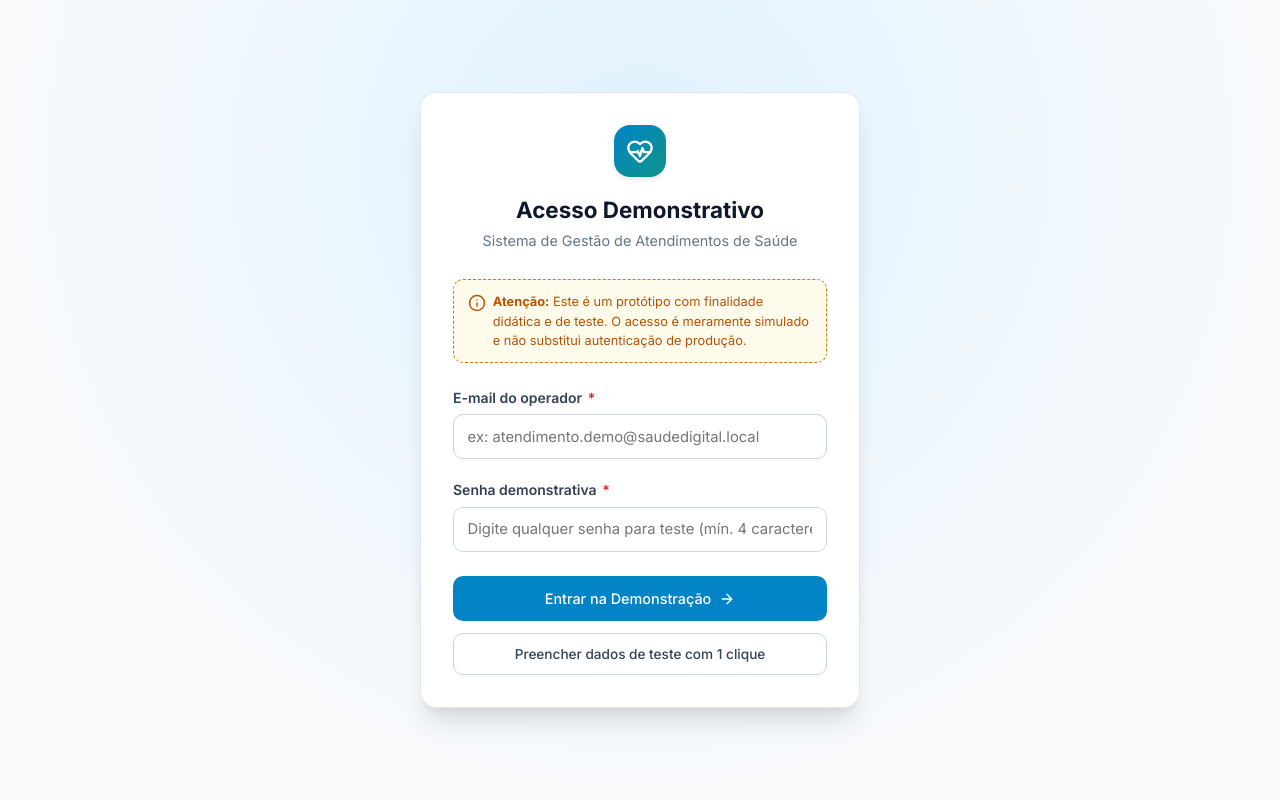
Test case: Gestão de Atendimentos de Saúde - Testes Funcionais › Área de Gestão e CRUD de Atendimentos › permite editar um atendimento existente
Click the button "Preencher dados de teste com 1 clique" at (640, 654), box [453, 633, 827, 675]
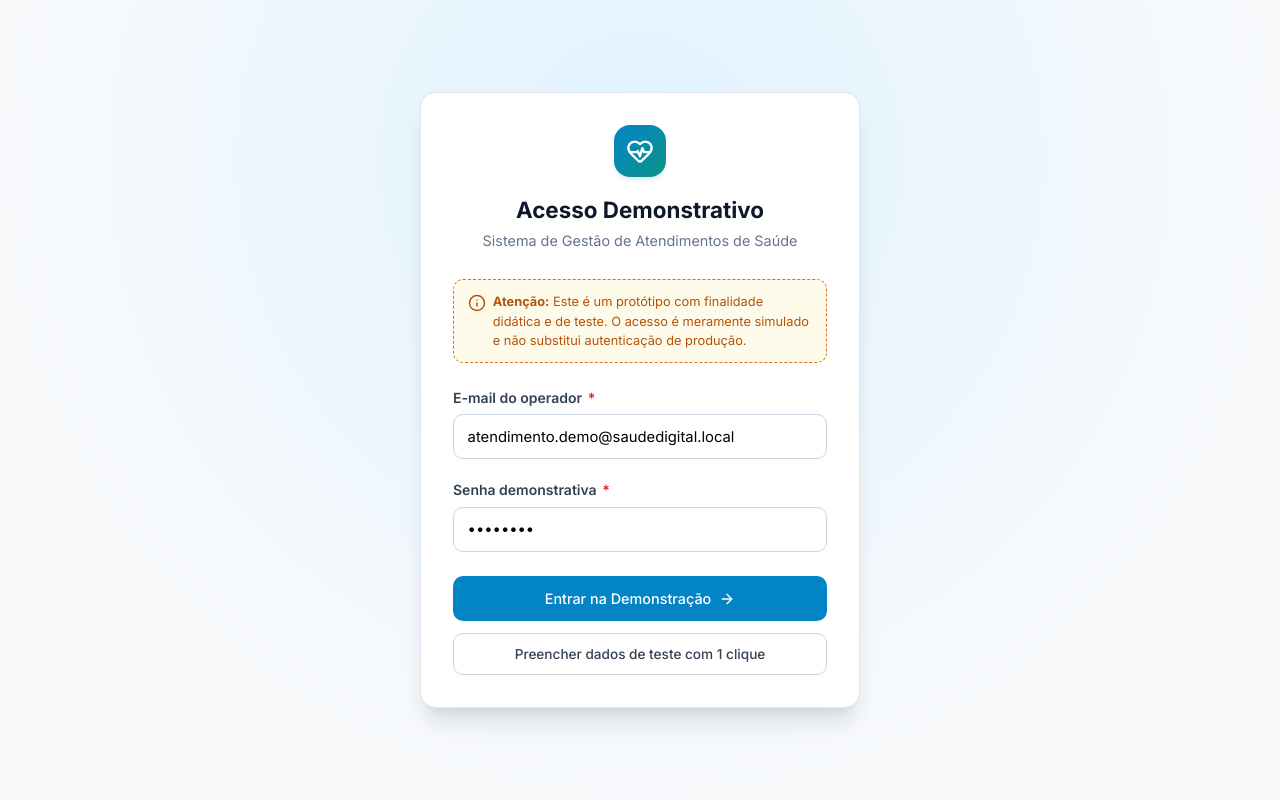
Click the button "Entrar na Demonstração" at (640, 599), box [453, 576, 827, 621]
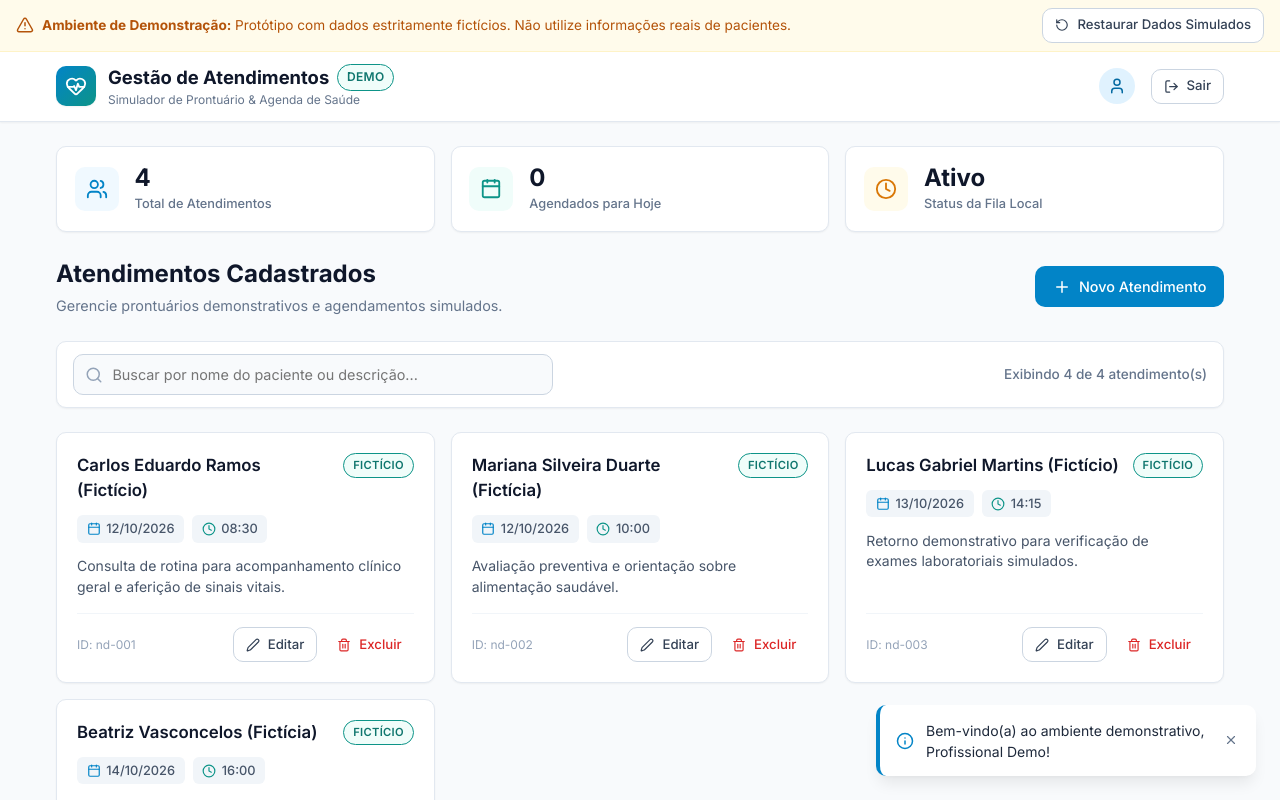
Clicar em editar do primeiro registro
Click the button with aria-label "editar atendimento de carlos eduardo ramos" at (275, 645), box [233, 628, 317, 662]
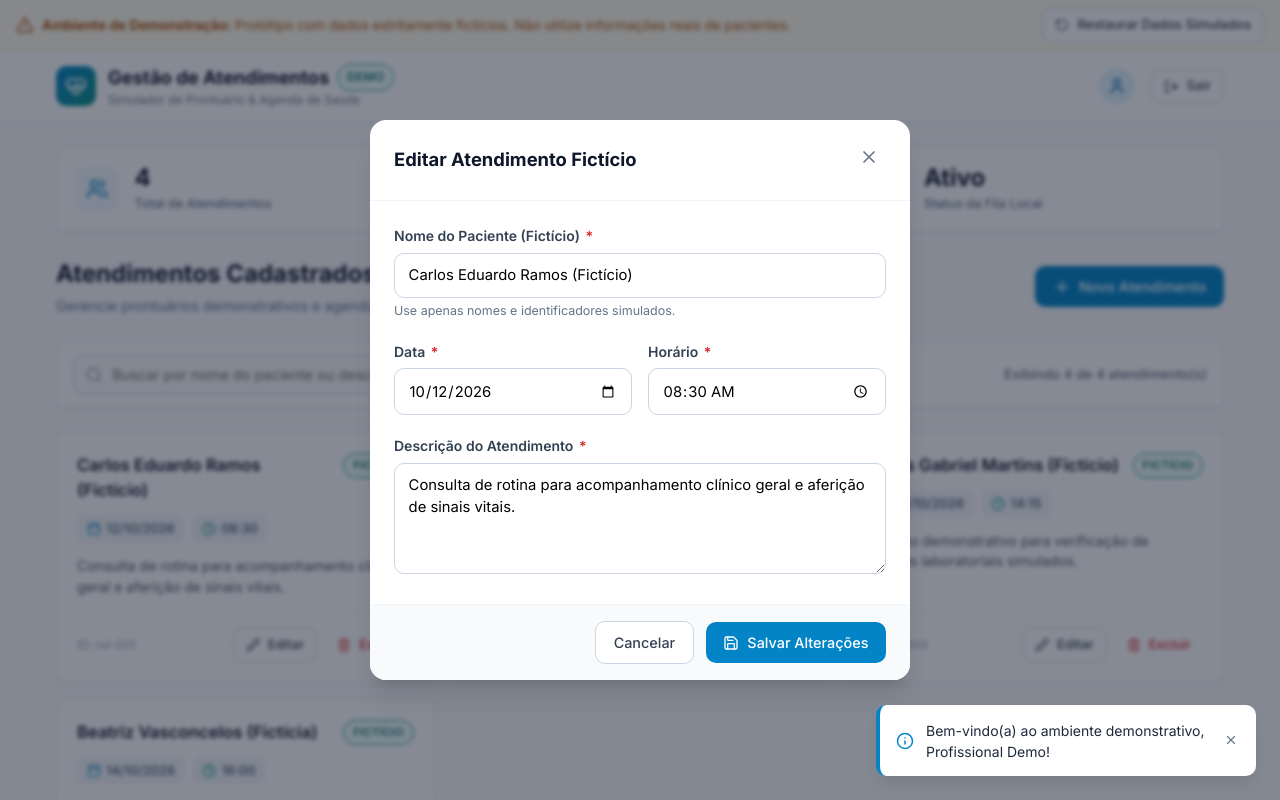
Alterar nome
Replace the text in the field labelled "Nome do Paciente (Fictício) *" with "Carlos Ramos Atualizado (Fictício)" at (640, 275), box [394, 253, 886, 298]
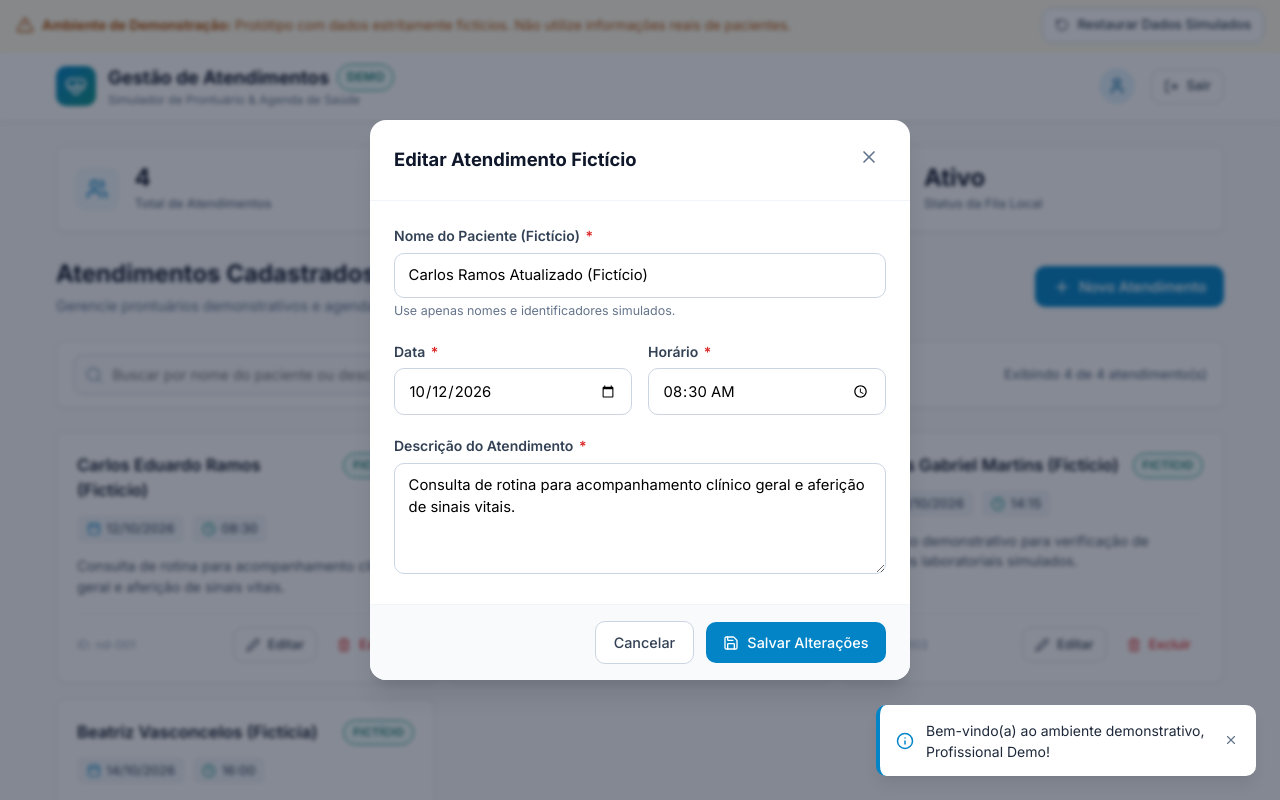
Click the button "Salvar Alterações" at (796, 643), box [706, 622, 886, 663]
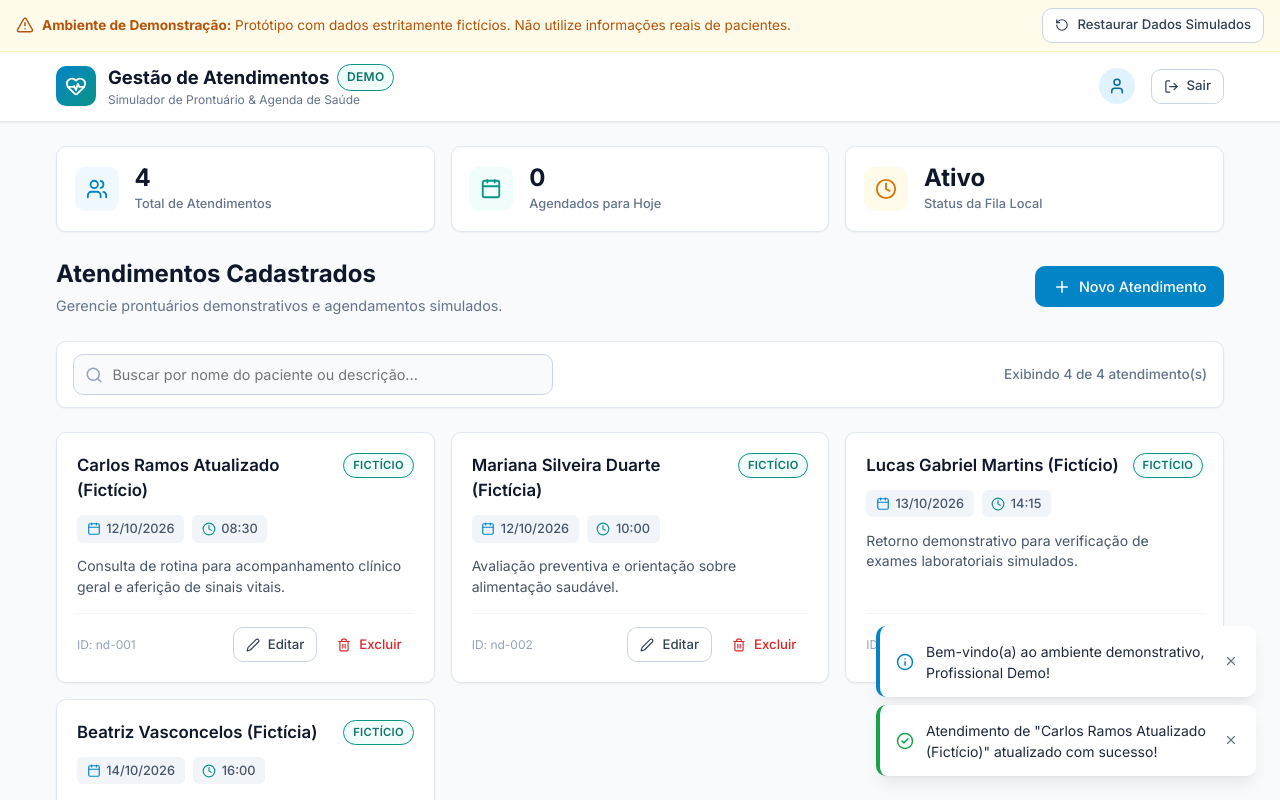
Check: the heading "Carlos Ramos Atualizado (Fictício)" is shown, box [77, 455, 280, 500]
